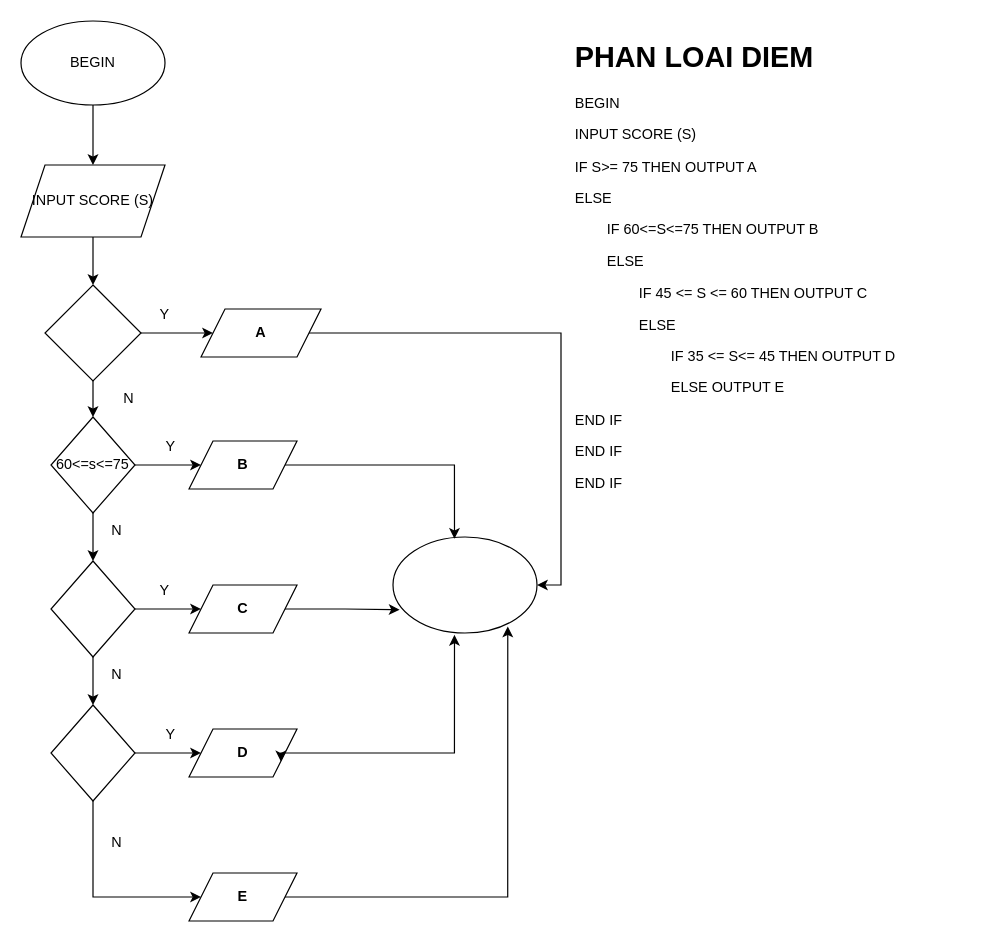
The diagram is 990 pixels wide and 942 high, and some of its shapes have lost their labels. Each missing label, with the centre of its shape:
"35<=s<=45" goes at point 92,752.
"45<=s<=60" goes at point 92,608.
"END" goes at point 464,584.
"S>= 75" goes at point 92,332.
